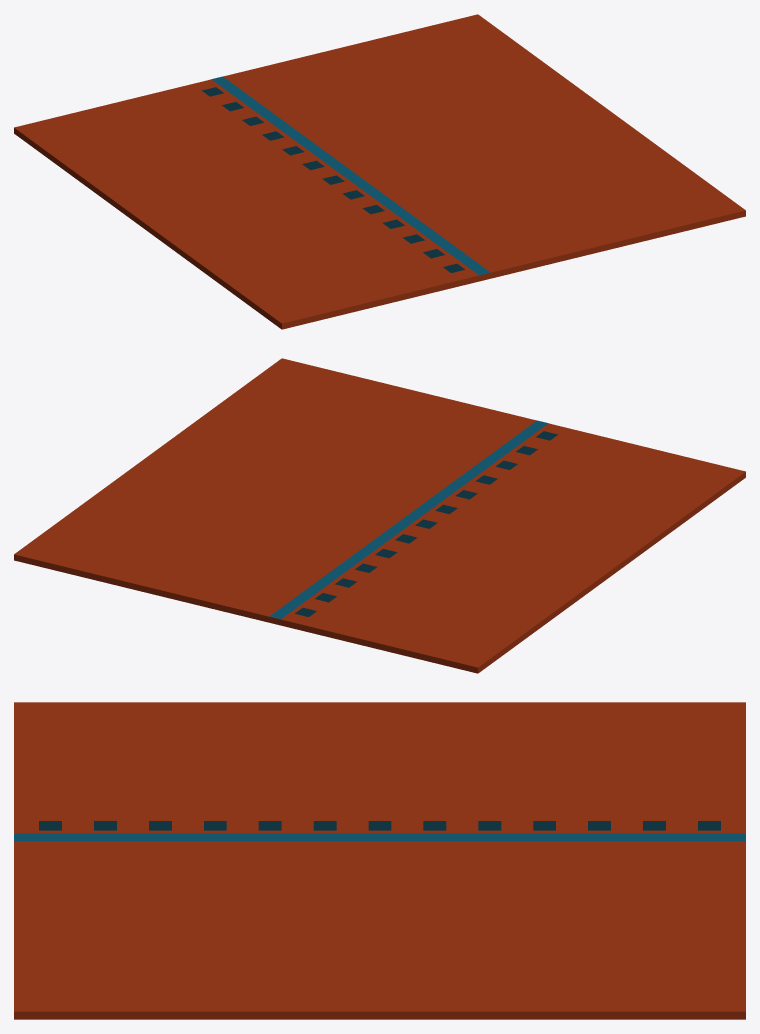
The model's file is Tile_3-1.fbx.
3 renders of one model, top to bottom at view 1: azimuth 30°, elevation 25°; view 2: azimuth 150°, elevation 25°; view 3: azimuth 270°, elevation 25°, orthographic. The views are drawn at different scales.
Visible parts, largest first — view 1: Tile_3-1; view 2: Tile_3-1; view 3: Tile_3-1.
Boxes of the visible parts, x1,y1,x2,y2 form: Tile_3-1: (14,14,745,329); Tile_3-1: (14,358,745,673); Tile_3-1: (14,702,745,1019).
Bounding box in the file's own units: 4 × 4 × 0.051.
